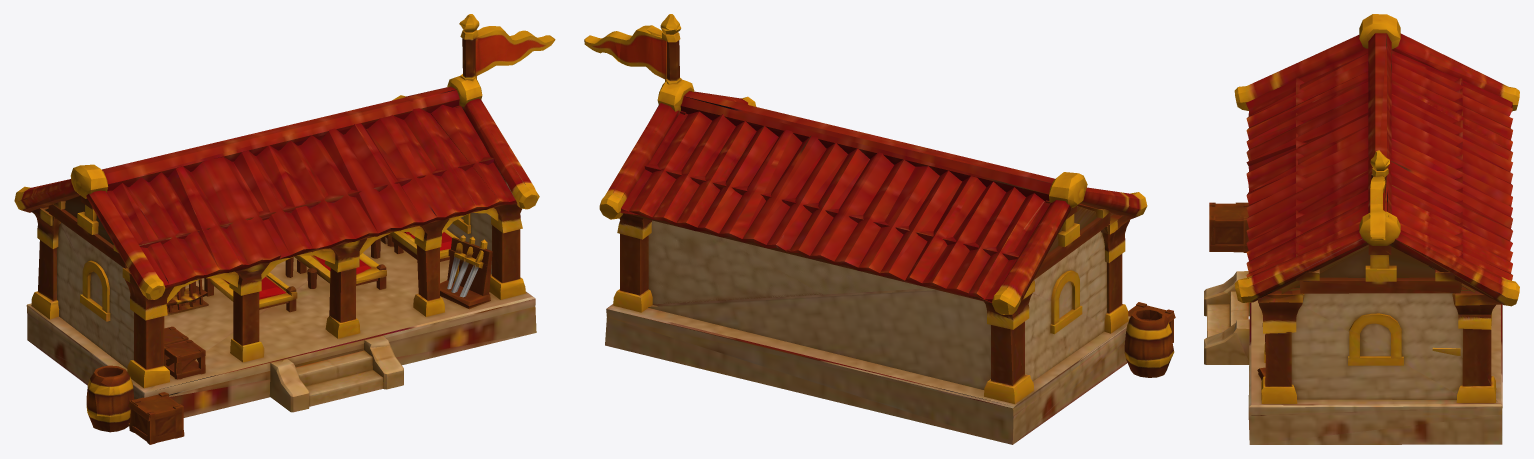
Rendered from arms_depot.glb.
3 renders of one model, left to right at view 1: azimuth 30°, elevation 25°; view 2: azimuth 150°, elevation 25°; view 3: azimuth 270°, elevation 25°, orthographic. The views are drawn at different scales.
Visible parts, largest first — view 1: mesh_000; view 2: mesh_000; view 3: mesh_000.
Boxes of the visible parts, <box> form: mesh_000: <box>14,14,555,444</box>; mesh_000: <box>584,14,1175,444</box>; mesh_000: <box>1204,14,1519,444</box>.
Bounding box in the file's own units: 0.9575 × 0.4936 × 0.4839.
Materials: 1 (1 with a texture image).
